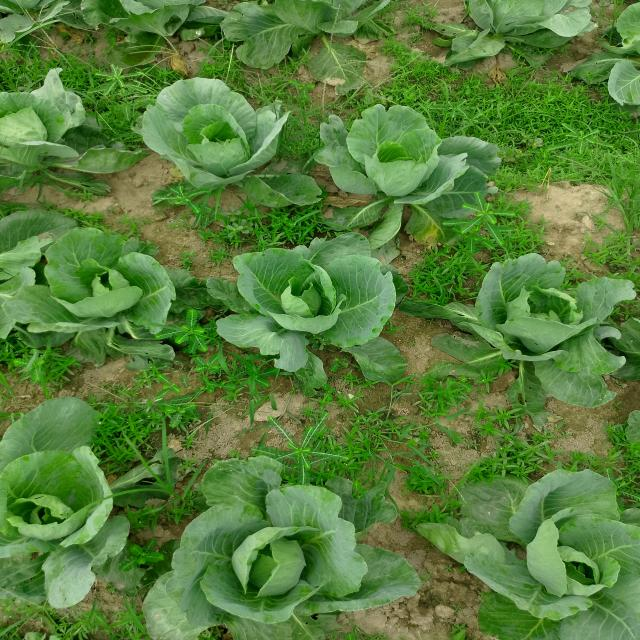Cabbage: (120, 442, 413, 640), (412, 451, 640, 640), (0, 385, 168, 608), (186, 224, 442, 368), (448, 248, 640, 413), (292, 99, 512, 234), (0, 218, 195, 345), (117, 78, 296, 204), (0, 51, 108, 209), (418, 0, 616, 64), (216, 0, 407, 59), (81, 0, 218, 42), (604, 0, 640, 126), (0, 0, 81, 42)
